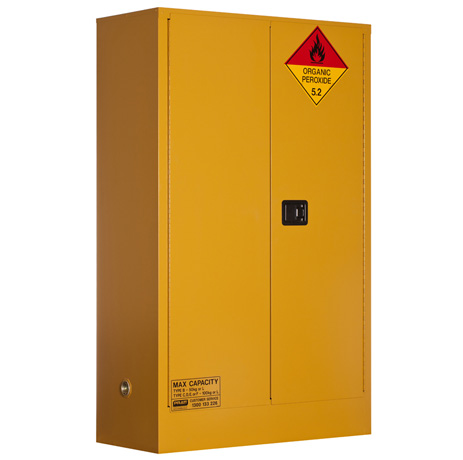OrganicPeroxide: (284, 26, 349, 105)
